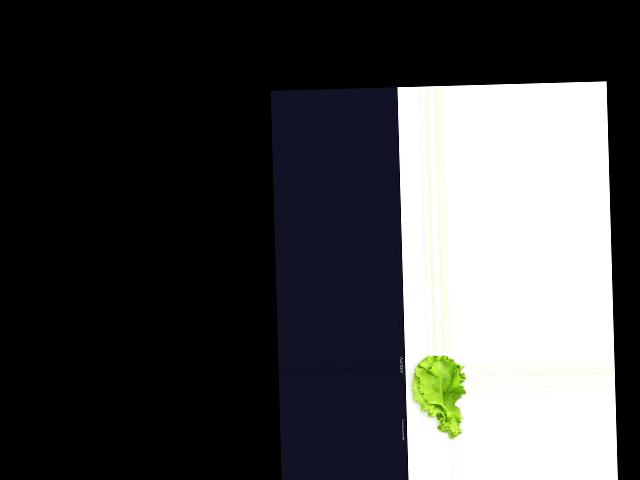lettuce: (406, 354, 468, 438)
